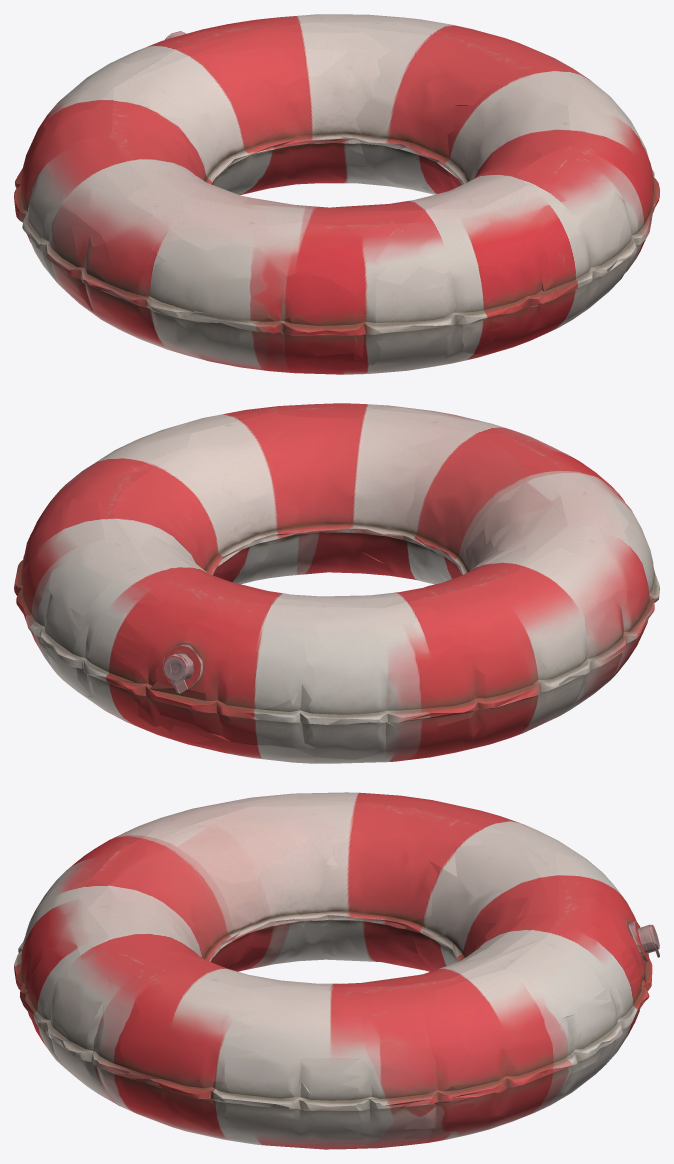
File: ciambella_gonfiabile.glb
3 views of the same model, one above another, from view 1: azimuth 30°, elevation 25°; view 2: azimuth 150°, elevation 25°; view 3: azimuth 270°, elevation 25° (orthographic).
Parts seen in each view (by area): view 1: Mesh_0; view 2: Mesh_0; view 3: Mesh_0.
Part boxes in pixels (<box>): Mesh_0: <box>14,14,659,374</box>; Mesh_0: <box>14,403,659,763</box>; Mesh_0: <box>14,792,659,1149</box>.
Size of the model in its own units: 1.87 by 0.477 by 1.89.
1 material, 1 textured.
